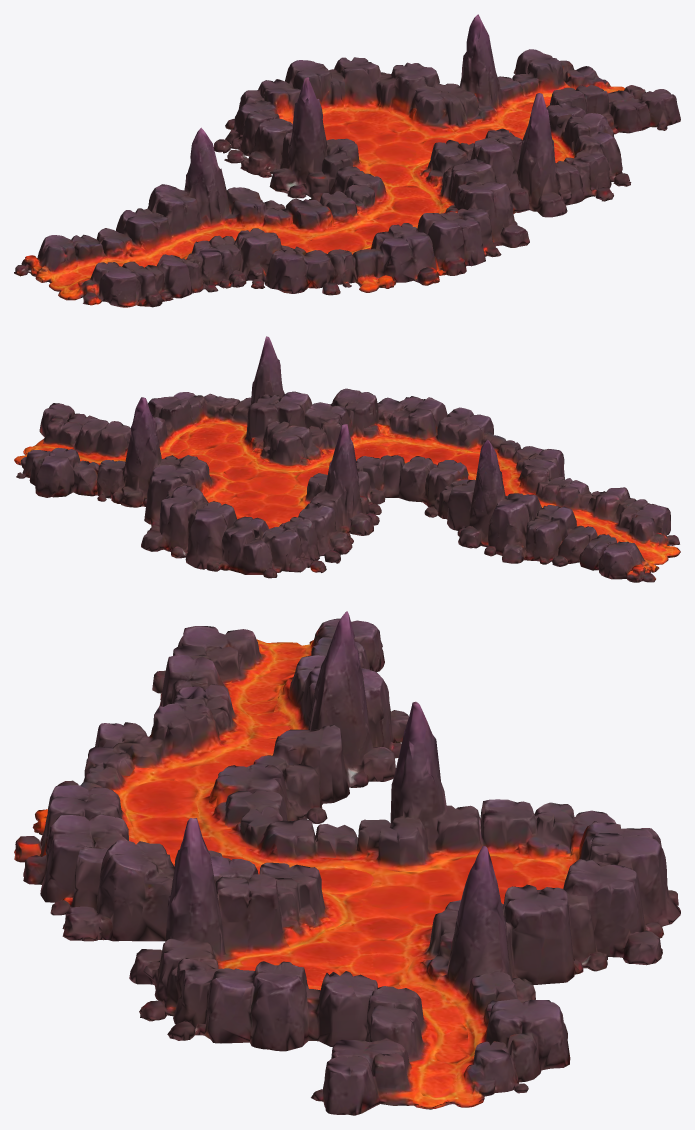
Rendered from lava_river_b.glb.
3 renders of one model, top to bottom at view 1: azimuth 30°, elevation 25°; view 2: azimuth 150°, elevation 25°; view 3: azimuth 270°, elevation 25°, orthographic. The views are drawn at different scales.
Visible parts, largest first — view 1: tripo_node_4dc72f7c-37e0-4099-bd50-f5a62a4e0b26; view 2: tripo_node_4dc72f7c-37e0-4099-bd50-f5a62a4e0b26; view 3: tripo_node_4dc72f7c-37e0-4099-bd50-f5a62a4e0b26.
Boxes of the visible parts, bbox=[...] form: tripo_node_4dc72f7c-37e0-4099-bd50-f5a62a4e0b26: bbox=[14, 14, 680, 307]; tripo_node_4dc72f7c-37e0-4099-bd50-f5a62a4e0b26: bbox=[14, 336, 680, 582]; tripo_node_4dc72f7c-37e0-4099-bd50-f5a62a4e0b26: bbox=[14, 611, 680, 1115].
Size of the model in its own units: 0.981 by 0.1527 by 0.5744.
Materials: 1 (1 with a texture image).
